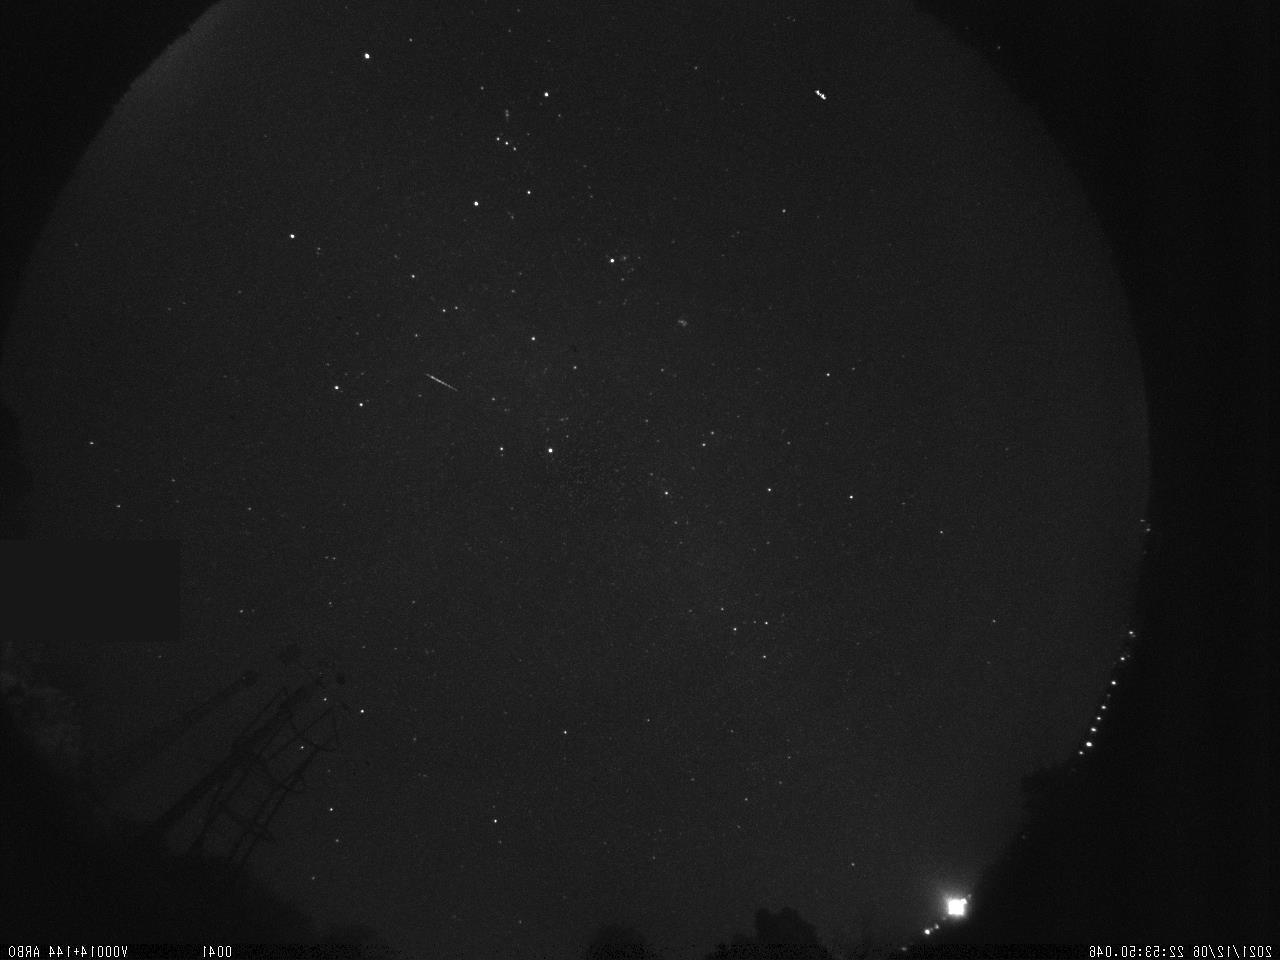meteor: (420, 360, 463, 398)
